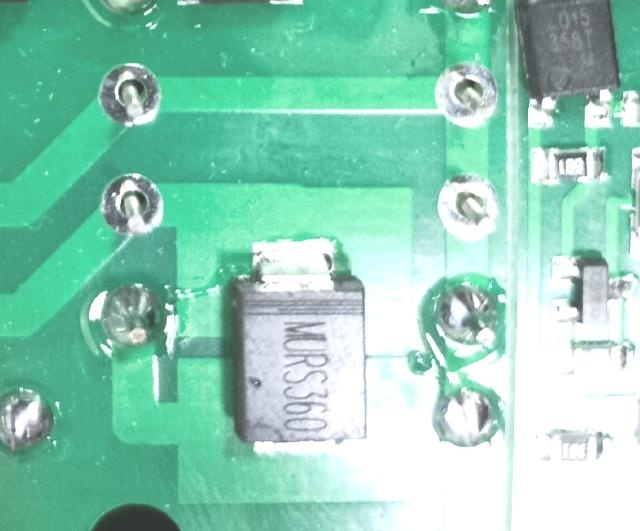chip-resistor: (527, 146, 611, 184), (555, 338, 640, 375), (530, 427, 612, 463)
diode: (233, 237, 372, 455)
ic: (515, 0, 617, 134)
transistor: (549, 253, 636, 326)
